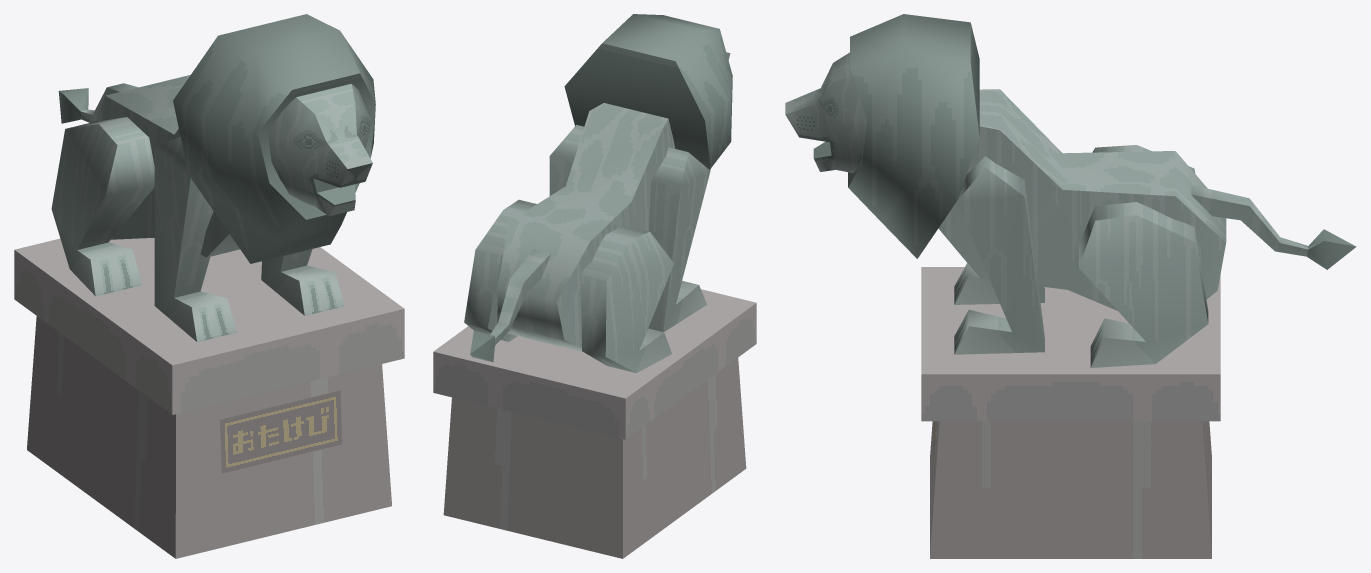
The model's file is 015f_Lion_Statue.glb.
3 renders of one model, left to right at view 1: azimuth 30°, elevation 25°; view 2: azimuth 150°, elevation 25°; view 3: azimuth 270°, elevation 25°, orthographic. The views are drawn at different scales.
Parts seen in each view (by area): view 1: part_0; view 2: part_0; view 3: part_0.
Boxes of the visible parts, bbox=[...] form: part_0: bbox=[14, 14, 404, 558]; part_0: bbox=[433, 14, 756, 558]; part_0: bbox=[785, 14, 1356, 558].
Bounding box in the file's own units: 1.16 × 2.39 × 2.6.
Materials: 1 (1 with a texture image).
